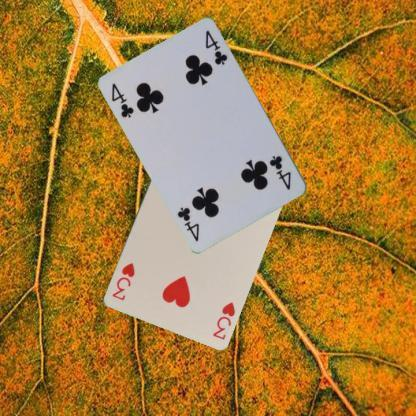3h: (209, 299, 236, 341)
4c: (266, 153, 296, 191), (109, 80, 136, 119)
